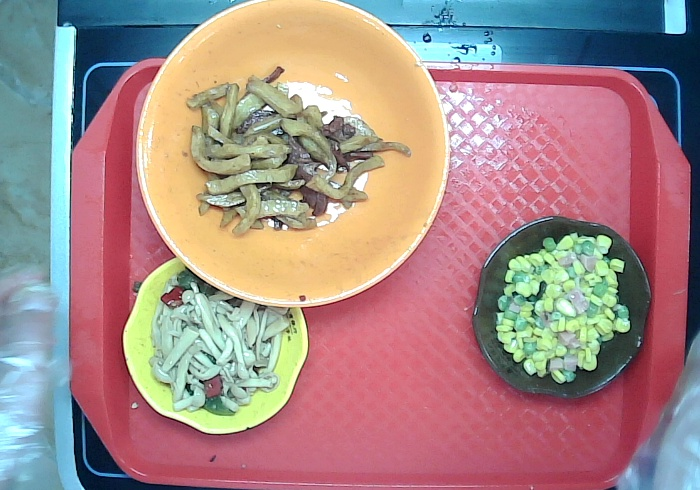YKMZ-Huang_Se_Ao_Bian_Wan: (119, 258, 309, 439)
YKMZ-Ju_Se_Tang_Wan: (133, 1, 446, 301)
YKMZ-Ka_Fei_Ao_Bian_Wan: (467, 203, 661, 400)
